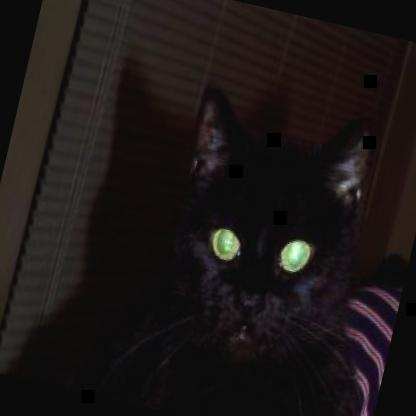cat: (101, 70, 393, 415)
